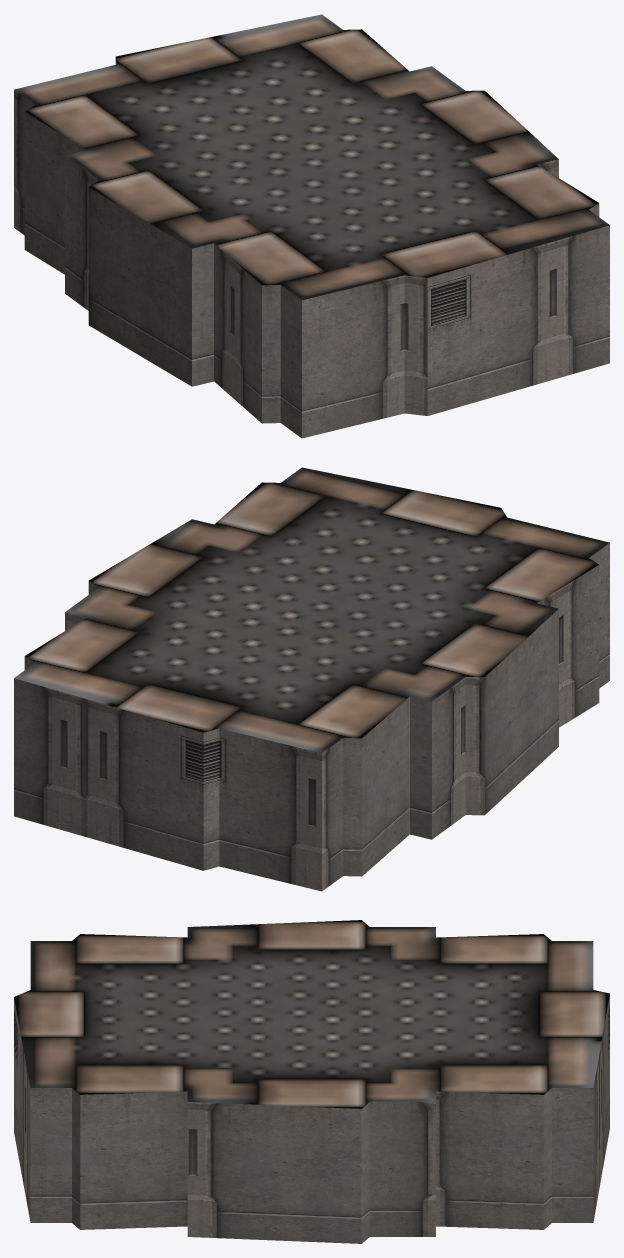
File: building_hard_a_00.glb
3 views of the same model, one above another, from view 1: azimuth 30°, elevation 25°; view 2: azimuth 150°, elevation 25°; view 3: azimuth 270°, elevation 25° (orthographic). The views are drawn at different scales.
Visible parts, largest first — view 1: buildings/saxarba/building_hard/building_hard_a_00; view 2: buildings/saxarba/building_hard/building_hard_a_00; view 3: buildings/saxarba/building_hard/building_hard_a_00.
Part boxes in pixels (box(x1,y1,x2,y2)): buildings/saxarba/building_hard/building_hard_a_00: box(14, 14, 609, 438); buildings/saxarba/building_hard/building_hard_a_00: box(14, 467, 609, 891); buildings/saxarba/building_hard/building_hard_a_00: box(14, 920, 609, 1243).
Size of the model in its own units: 54 by 18 by 72.
